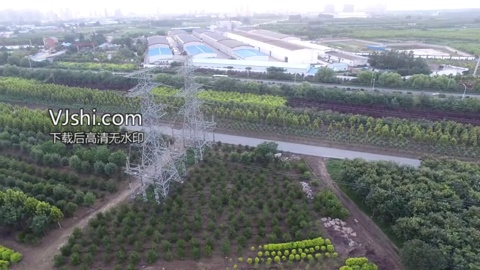tower_body: (120, 67, 188, 203), (169, 61, 218, 162)
tower_foot: (124, 162, 184, 199), (180, 130, 215, 160)
tower_head: (123, 69, 160, 94), (170, 63, 202, 77)
